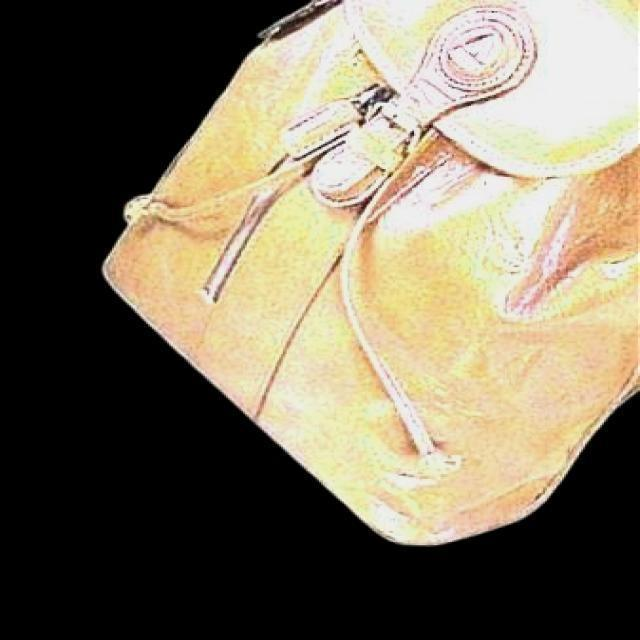Suitcase: (94, 0, 640, 556)
